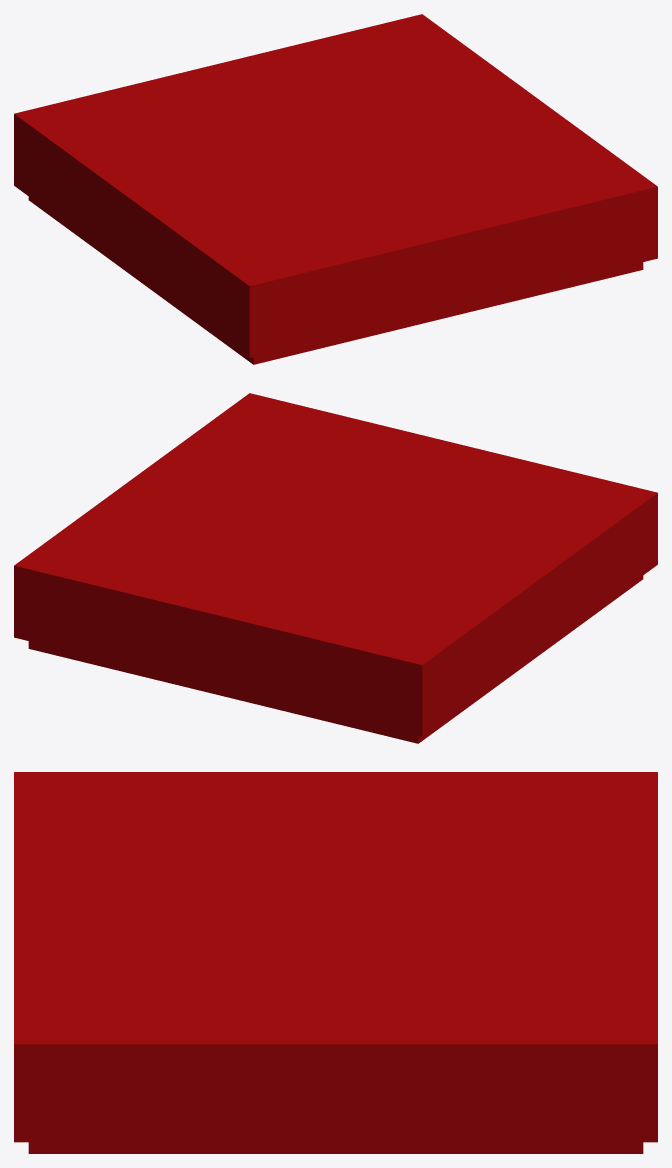
Rendered from 3068 flat tile 2x2.dae.
3 renders of one model, top to bottom at view 1: azimuth 30°, elevation 25°; view 2: azimuth 150°, elevation 25°; view 3: azimuth 270°, elevation 25°, orthographic. The views are drawn at different scales.
Visible parts, largest first — view 1: Part_3068.1; view 2: Part_3068.1; view 3: Part_3068.1.
Boxes of the visible parts, x1,y1,x2,y2 form: Part_3068.1: (14, 14, 657, 364); Part_3068.1: (14, 393, 657, 743); Part_3068.1: (14, 772, 657, 1153).
Bounding box in the file's own units: 15.92 × 3.16 × 15.92.
